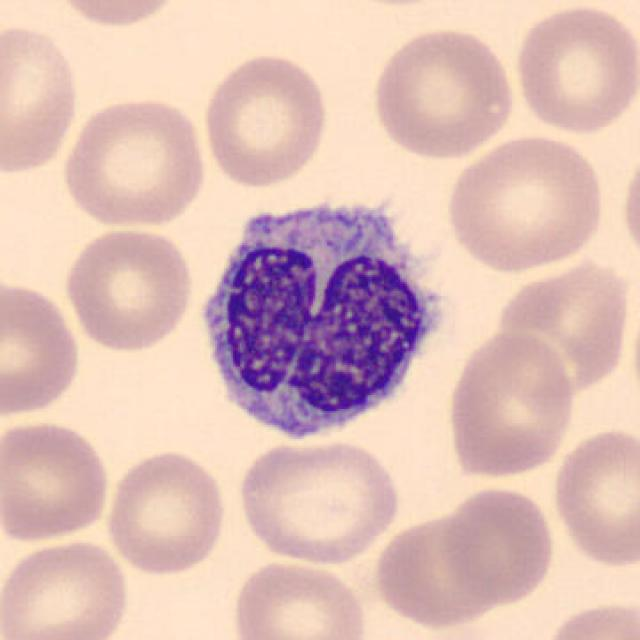Monocyte: (185, 182, 453, 453)
RBC: (441, 131, 610, 275), (233, 433, 405, 568), (366, 21, 519, 162), (57, 92, 211, 231), (489, 252, 636, 397), (442, 326, 578, 481), (198, 48, 332, 190), (61, 224, 198, 354), (510, 2, 638, 138), (101, 446, 231, 577), (370, 508, 505, 631), (438, 483, 558, 608), (0, 416, 114, 545), (0, 534, 133, 640), (0, 19, 84, 178), (548, 423, 638, 570), (228, 555, 372, 640), (0, 276, 84, 419), (46, 0, 190, 32), (540, 596, 638, 640), (617, 141, 640, 273)
